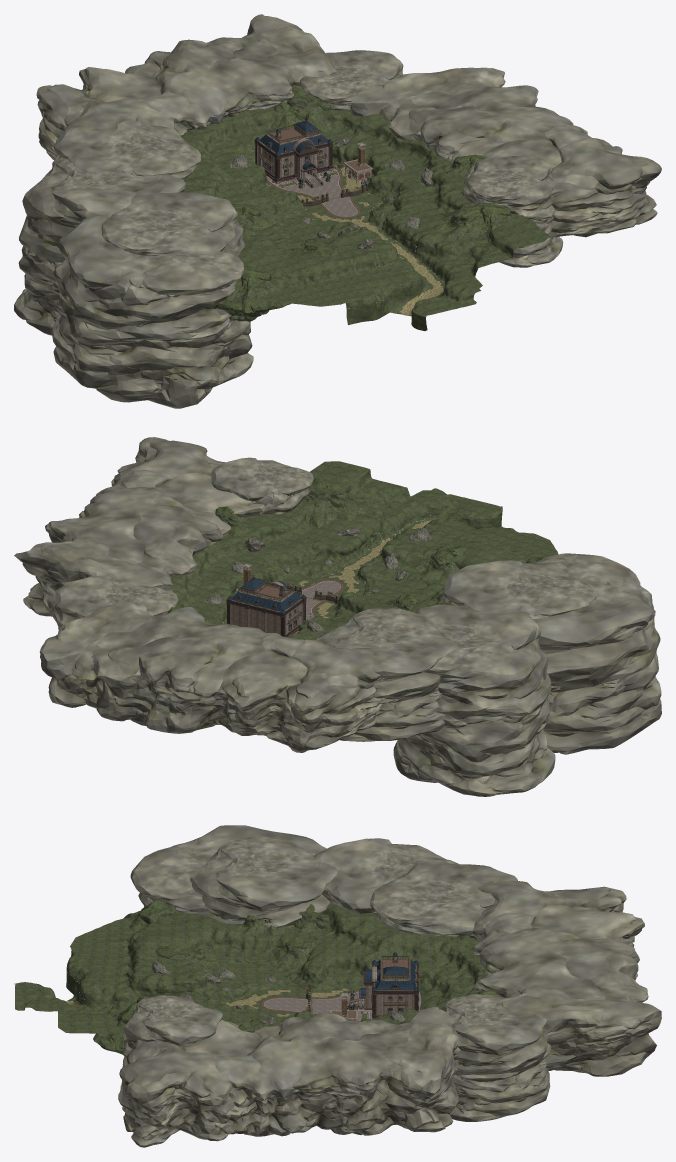
File: Rosenberg.glb
The picture shows the model from 3 angles, top to bottom: view 1: azimuth 30°, elevation 25°; view 2: azimuth 150°, elevation 25°; view 3: azimuth 270°, elevation 25°; orthographic projection. The views are drawn at different scales.
Parts seen in each view (by area): view 1: ground, w06obj00_01_Group11545, polySurface45.001, polySurface45, w06obj00_01_Group11545.002, w06obj00_01_Group11545.001, w06obj00_01_Group11545.003, w06obj00_01_Group11545.005, w06obj00_01_Group11545.004, main.005, main.003, oc_wall (+7 smaller); view 2: polySurface45, ground, w06obj00_01_Group11545.002, polySurface45.001, w06obj00_01_Group11545, w06obj00_01_Group11545.003, w06obj00_01_Group11545.001, w06obj00_01_Group11545.005, w06obj00_01_Group11545.004, oc_wall, main.003, main.007 (+4 smaller); view 3: polySurface45.001, ground, polySurface45, w06obj00_01_Group11545.004, w06obj00_01_Group11545.001, w06obj00_01_Group11545.003, w06obj00_01_Group11545, w06obj00_01_Group11545.002, w06obj00_01_Group11545.005, oc_wall, polySurface3691, oc_roof (+7 smaller).
Part boxes in pixels (bbox=[...]): ground: bbox=[180, 107, 549, 330]; w06obj00_01_Group11545: bbox=[51, 215, 253, 408]; polySurface45.001: bbox=[350, 67, 661, 237]; polySurface45: bbox=[36, 14, 336, 159]; w06obj00_01_Group11545.002: bbox=[14, 158, 185, 335]; w06obj00_01_Group11545.001: bbox=[101, 192, 244, 255]; w06obj00_01_Group11545.003: bbox=[52, 120, 200, 179]; w06obj00_01_Group11545.005: bbox=[461, 156, 563, 267]; w06obj00_01_Group11545.004: bbox=[299, 50, 403, 110]; main.005: bbox=[204, 266, 291, 321]; main.003: bbox=[433, 203, 535, 242]; oc_wall: bbox=[254, 137, 333, 183]; polySurface45: bbox=[39, 601, 385, 752]; ground: bbox=[170, 461, 558, 639]; w06obj00_01_Group11545.002: bbox=[393, 604, 555, 796]; polySurface45.001: bbox=[14, 437, 264, 616]; w06obj00_01_Group11545: bbox=[533, 553, 661, 754]; w06obj00_01_Group11545.003: bbox=[316, 608, 457, 741]; w06obj00_01_Group11545.001: bbox=[441, 560, 597, 618]; w06obj00_01_Group11545.005: bbox=[211, 457, 313, 514]; w06obj00_01_Group11545.004: bbox=[50, 575, 178, 629]; oc_wall: bbox=[226, 581, 306, 636]; main.003: bbox=[304, 477, 366, 527]; main.007: bbox=[409, 544, 467, 580]; polySurface45.001: bbox=[118, 1006, 460, 1147]; ground: bbox=[14, 903, 487, 1033]; polySurface45: bbox=[469, 880, 661, 1076]; w06obj00_01_Group11545.004: bbox=[443, 994, 551, 1121]; w06obj00_01_Group11545.001: bbox=[190, 837, 337, 928]; w06obj00_01_Group11545.003: bbox=[370, 862, 517, 987]; w06obj00_01_Group11545: bbox=[130, 825, 326, 1015]; w06obj00_01_Group11545.002: bbox=[311, 838, 458, 997]; w06obj00_01_Group11545.005: bbox=[120, 995, 222, 1089]; oc_wall: bbox=[359, 962, 418, 1018]; polySurface3691: bbox=[261, 990, 370, 1021]; oc_roof: bbox=[360, 952, 418, 996].
Size of the model in its own units: 245 by 65.53 by 241.
Materials: 94 (94 with a texture image).
